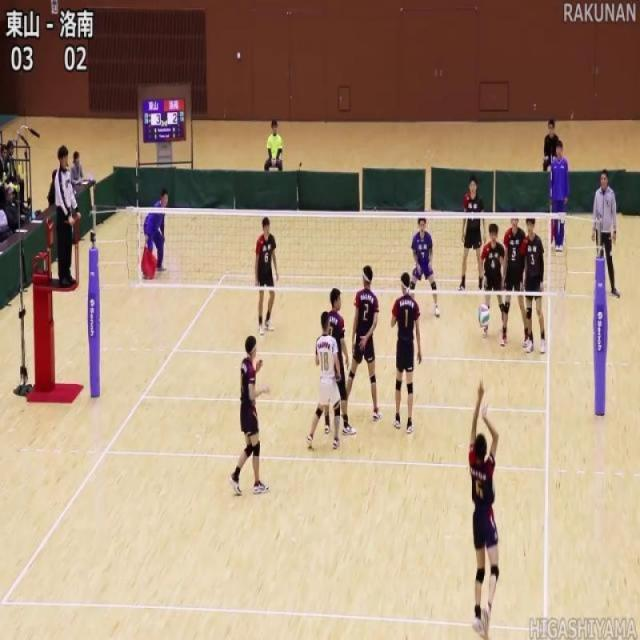volleyball: (478, 302, 490, 328)
